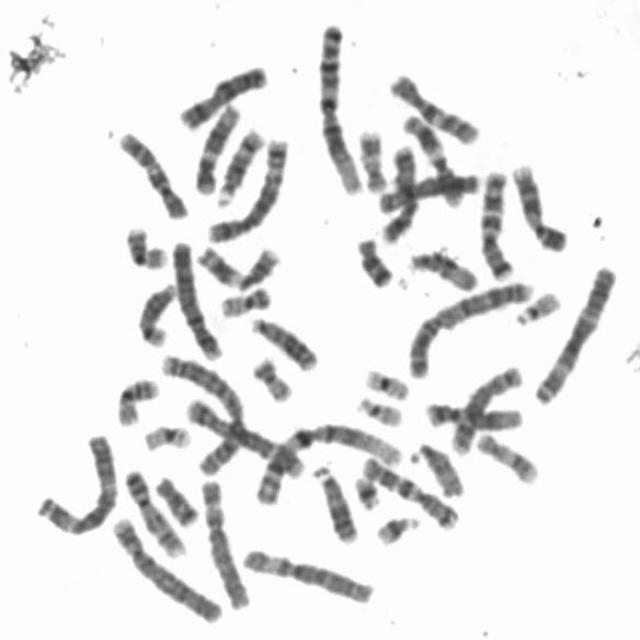A1: (248, 415, 408, 506), (311, 18, 366, 198)
A2: (402, 276, 536, 380), (156, 348, 248, 477)
A3: (530, 259, 622, 407), (32, 427, 122, 536)
B4: (106, 510, 226, 626), (167, 235, 226, 362)
B5: (181, 392, 309, 481), (202, 130, 292, 246)
C10: (384, 66, 482, 147), (112, 124, 192, 222)
C11: (398, 109, 467, 210), (194, 239, 284, 292)
C12: (190, 97, 242, 196), (418, 396, 524, 432)
C6: (236, 542, 377, 606), (195, 473, 255, 611)
C7: (356, 449, 462, 532), (476, 164, 517, 282)
C8: (446, 358, 527, 457), (372, 167, 484, 215)
C9: (118, 462, 191, 558), (506, 157, 571, 253)
D13: (245, 311, 320, 374), (308, 458, 360, 545)
D14: (210, 121, 268, 208), (132, 276, 180, 348)
D15: (401, 244, 482, 293), (408, 437, 468, 500)
E16: (112, 371, 162, 428), (121, 220, 172, 271)
E17: (472, 426, 542, 486), (354, 123, 389, 194)
E18: (150, 469, 202, 528), (350, 231, 396, 290)
F19: (360, 362, 412, 402), (138, 418, 194, 453)
F20: (246, 350, 296, 404), (215, 280, 274, 319)
G21: (370, 508, 423, 548), (348, 469, 384, 512)
G22: (510, 284, 563, 327), (352, 390, 405, 428)
X: (172, 58, 271, 132), (377, 140, 422, 246)
